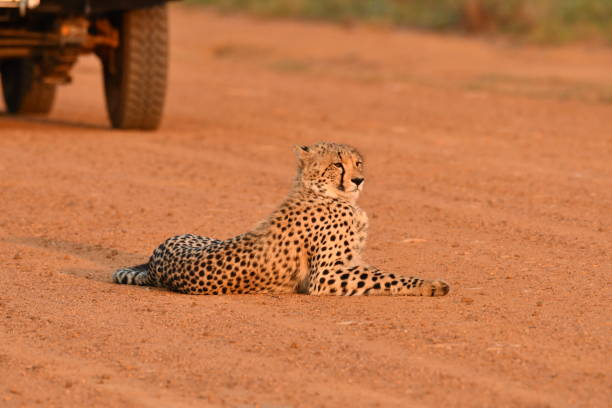cheetah: (282, 130, 378, 214)
